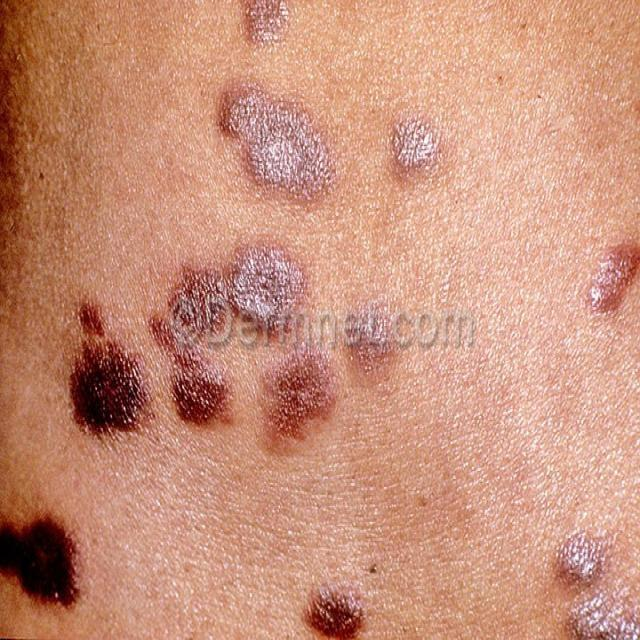Shingles: (156, 239, 394, 434), (216, 76, 334, 203), (549, 527, 640, 640), (68, 306, 141, 434), (0, 512, 82, 608), (588, 244, 640, 317), (390, 114, 437, 178), (306, 590, 366, 640), (243, 0, 298, 47)
